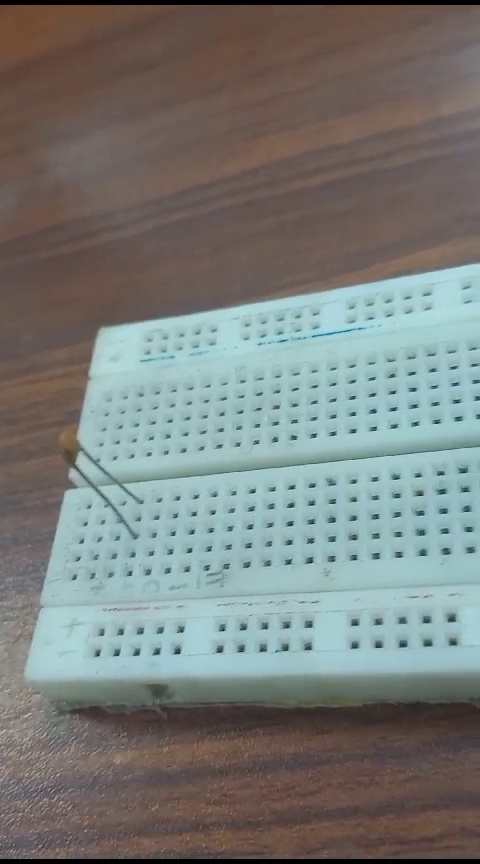ceramic capacitor: (44, 427, 162, 539)
